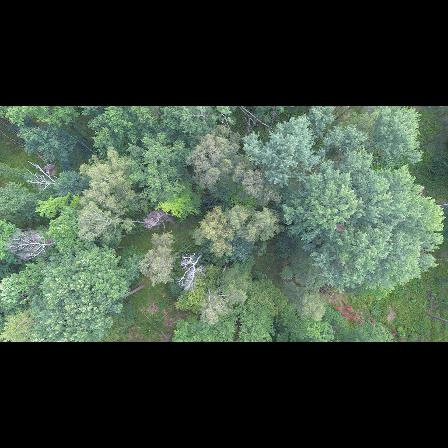Dead: (6, 228, 58, 263), (24, 154, 59, 191), (175, 251, 206, 291), (143, 208, 175, 233)
